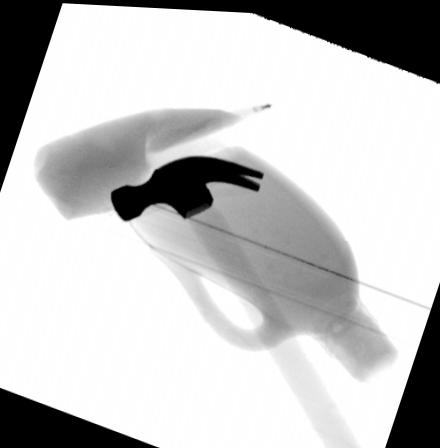Hammer: (109, 151, 365, 448)
